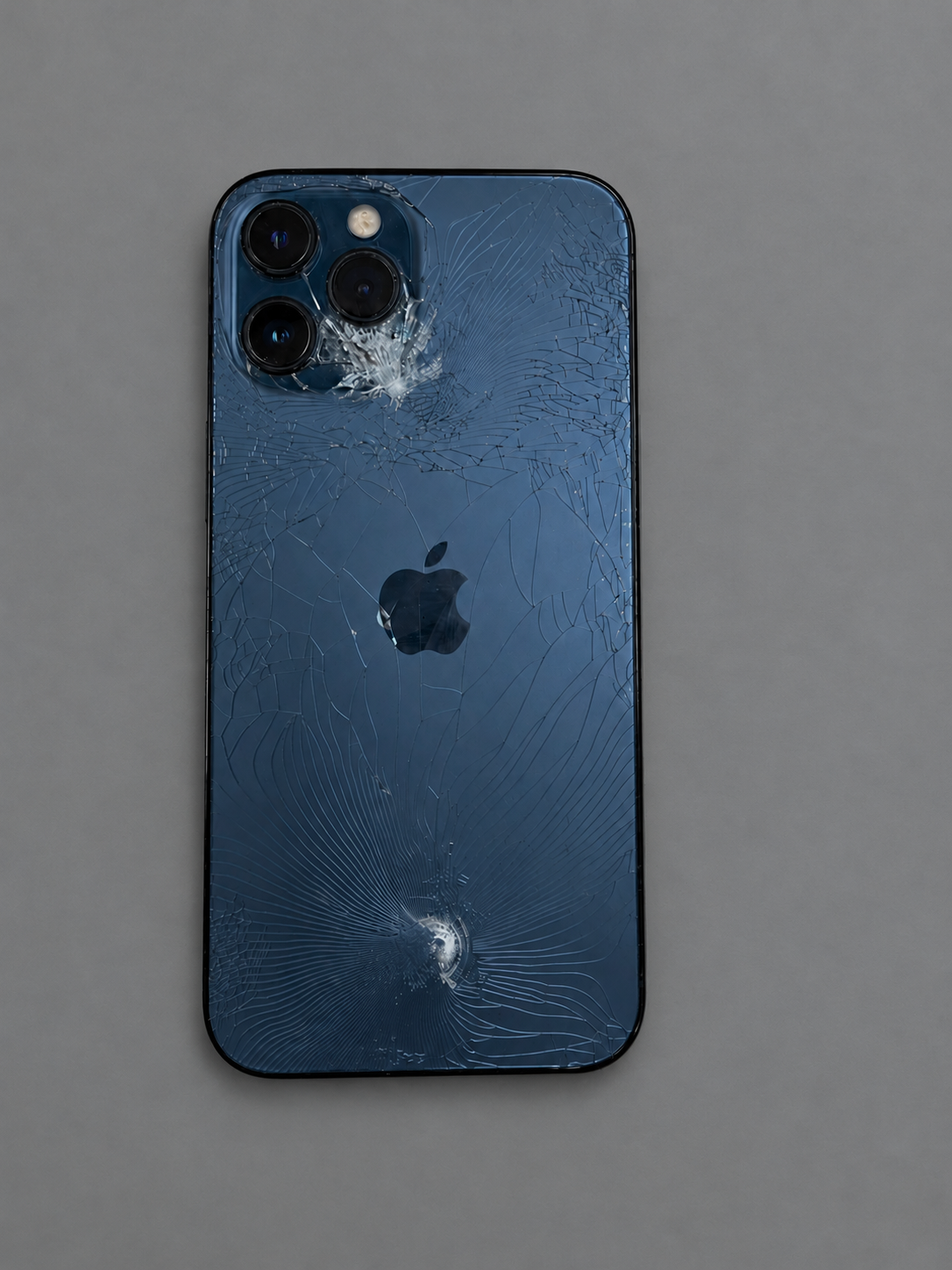iphone_12_pro_max_Crack: (136, 117, 689, 1164)
